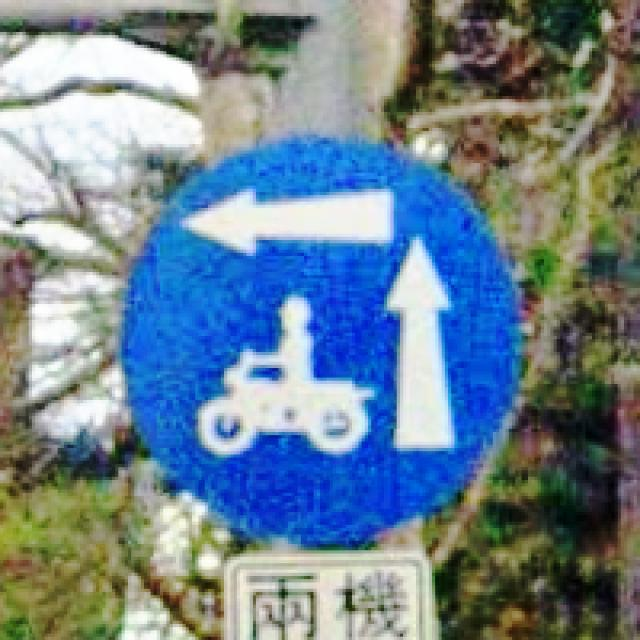twostageturn: (122, 131, 522, 547)
